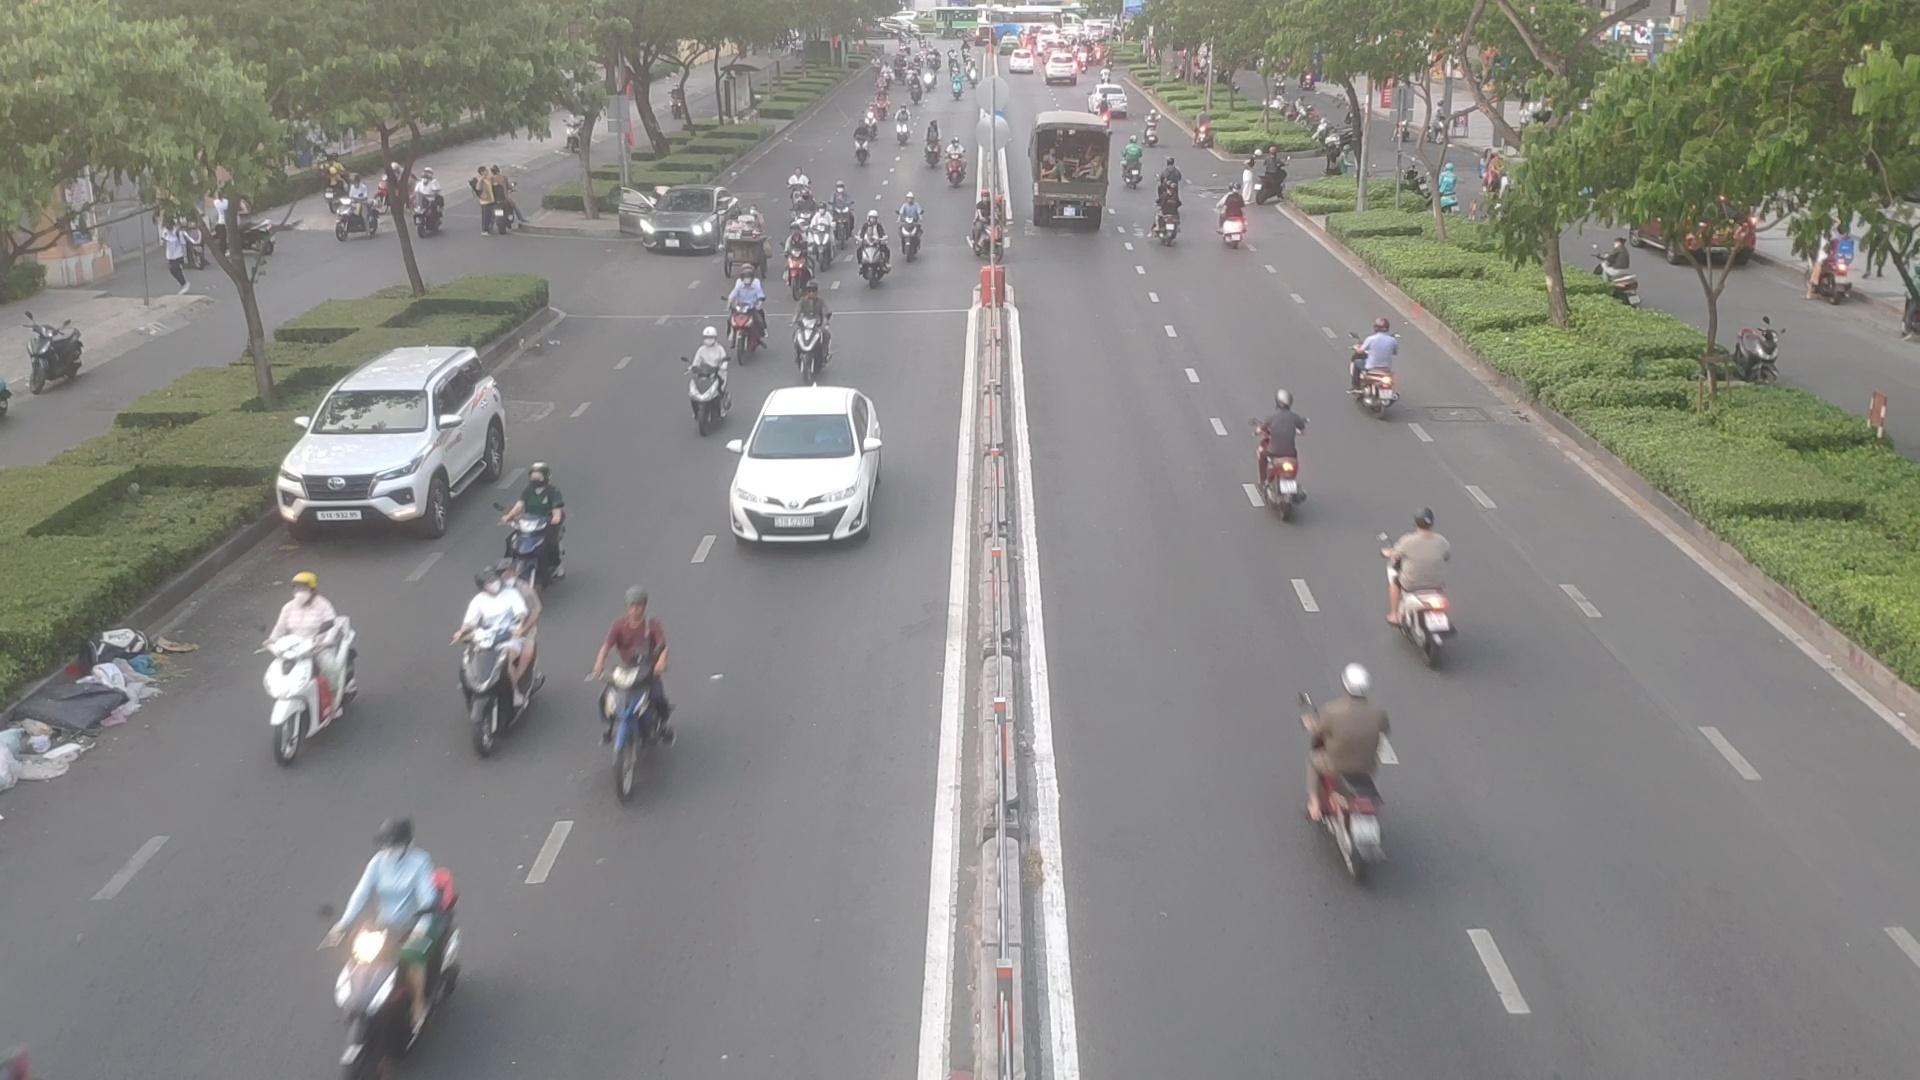car: (284, 343, 521, 533), (727, 386, 899, 542), (615, 191, 738, 258)
motorbike: (311, 818, 469, 1071), (233, 589, 361, 769), (1284, 679, 1396, 873), (595, 591, 679, 791), (454, 575, 541, 754), (1389, 514, 1476, 661), (492, 463, 575, 585), (1247, 393, 1315, 512), (1345, 322, 1410, 409), (684, 342, 738, 425), (790, 287, 839, 368), (723, 273, 770, 355), (855, 224, 893, 290), (799, 212, 839, 269), (1218, 189, 1253, 251), (1141, 196, 1182, 247), (890, 204, 924, 262), (1122, 148, 1149, 190), (916, 131, 944, 167)
